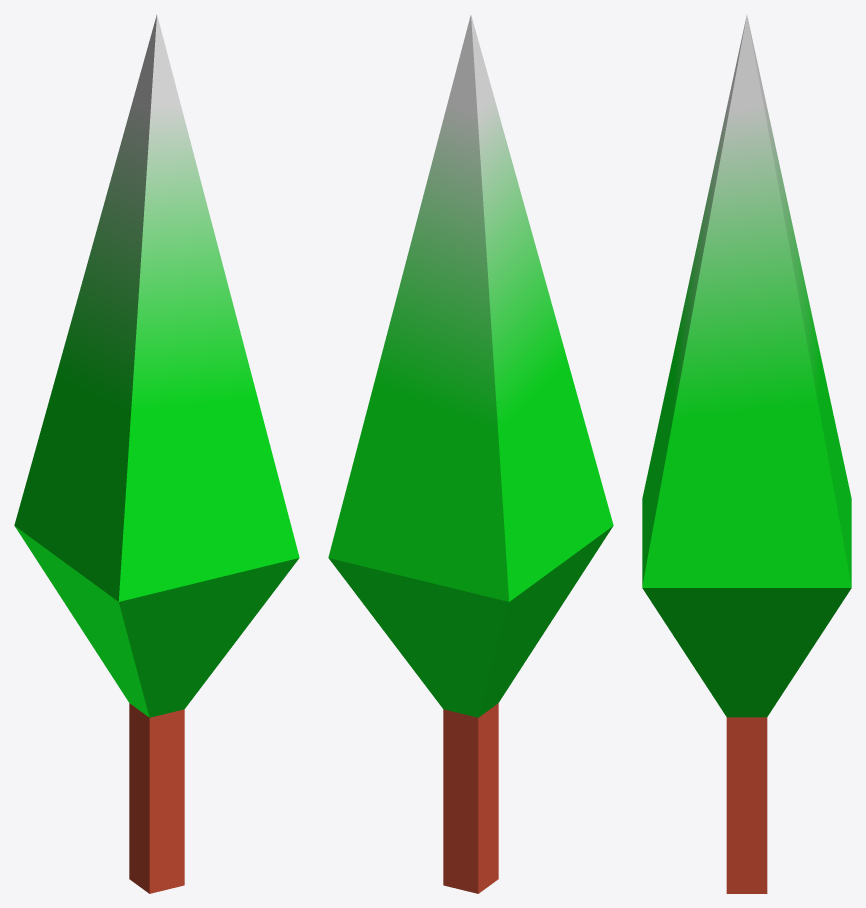
The model's file is treegradie t.fbx.
The picture shows the model from 3 angles, left to right: view 1: azimuth 30°, elevation 25°; view 2: azimuth 150°, elevation 25°; view 3: azimuth 270°, elevation 25°; orthographic projection.
Visible parts, largest first — view 1: Cube.001; view 2: Cube.001; view 3: Cube.001.
Part boxes in pixels (x1=…): Cube.001: x1=14, y1=15, x2=299, y2=893; Cube.001: x1=328, y1=15, x2=613, y2=893; Cube.001: x1=642, y1=15, x2=851, y2=893.
Bounding box in the file's own units: 301 × 1380 × 301.
